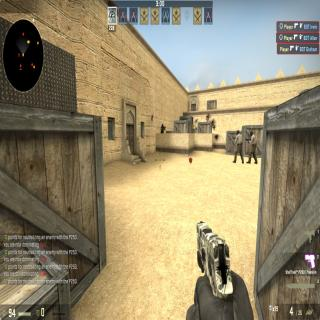CT-Body: (160, 123, 165, 134)
CT-Head: (162, 123, 164, 127)
T-Body: (248, 129, 256, 165), (234, 129, 242, 163)
T-Head: (236, 128, 240, 136), (250, 130, 253, 137)
